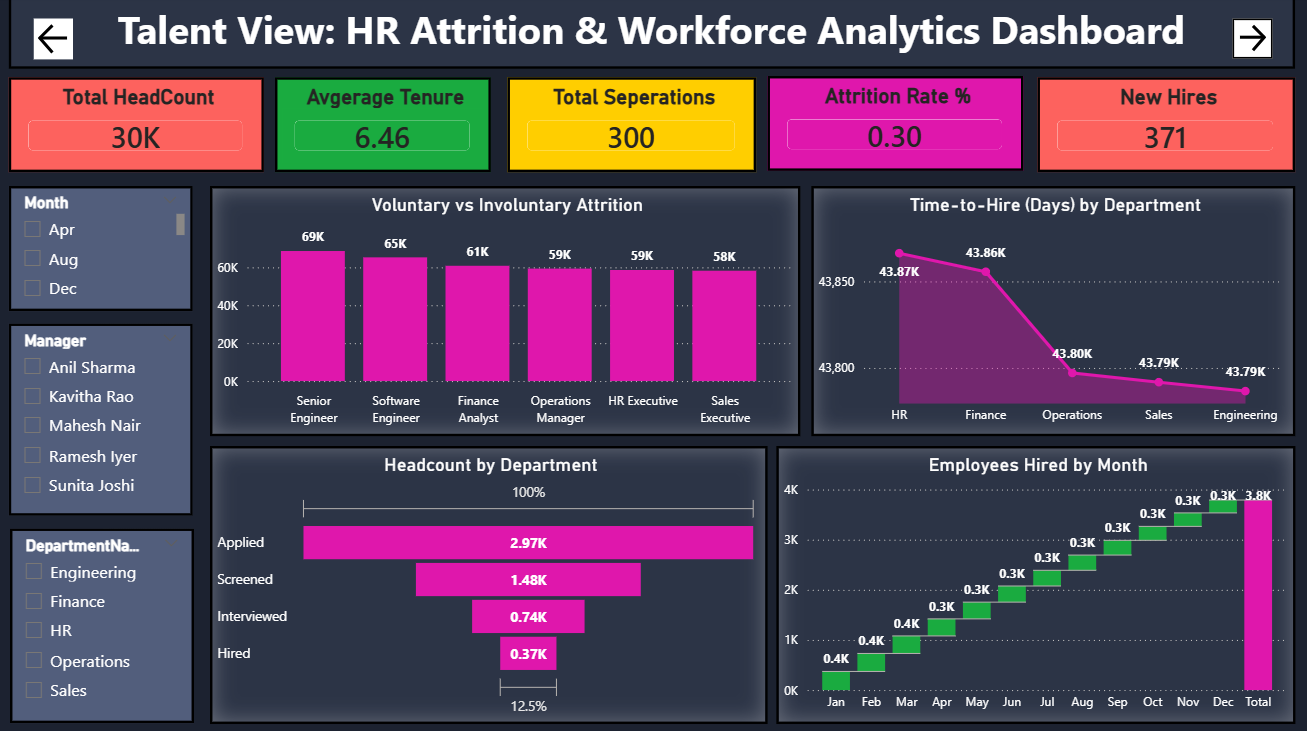

This screenshot's page, from the dashboard's own definition file:
{"tool":"powerbi","page":{"name":"Hiring Analysis","canvas":[1280,720],"ordinal":3},"visuals":[{"type":"funnel","title":"Headcount by Department","fields":{"Category":["Hiring Funnel Stages.Stage"],"Y":["Hiring Funnel Stages.Funnel Value"]},"box":[205.3,440,545.2,272],"z":0},{"type":"slicer","fields":{"Values":["Calendar.Month"]},"box":[8.6,185.9,179.8,122.3],"z":1000},{"type":"slicer","fields":{"Values":["dEmployee.Manager"]},"box":[8.6,320.4,179.8,188.3],"z":2000},{"type":"slicer","fields":{"Values":["dDepartment.DepartmentName"]},"box":[9.8,520.9,179.8,190.8],"z":3000},{"type":"textbox","box":[8.6,0,1258.3,70.9],"z":4000},{"type":"cardVisual","title":"Total HeadCount","fields":{"Data":["fSeparations.Headcount121"]},"box":[8.6,79.5,249.5,92.9],"z":5000},{"type":"cardVisual","title":"Avgerage Tenure","fields":{"Data":["dEmployee.Avg Tenure"]},"box":[269,79.5,211.6,92.9],"z":6000},{"type":"cardVisual","title":"Total Seperations","fields":{"Data":["fSeparations.Separations111"]},"box":[496.5,79.5,243.3,92.9],"z":7000},{"type":"cardVisual","title":"Attrition Rate %","fields":{"Data":["fSeparations.Attrition Rate % (Rolling 12M)"]},"box":[750.8,78.3,250.7,92.9],"z":8000},{"type":"cardVisual","title":"New Hires","fields":{"Data":["Hiring Funnel Stages.New Hires"]},"box":[1015,79.5,251.9,92.9],"z":9000},{"type":"actionButton","box":[1205.7,22,39.1,39.1],"z":10000},{"type":"clusteredColumnChart","title":"Voluntary vs Involuntary Attrition","fields":{"Category":["dEmployee.JobRole"],"Y":["dEmployee.New Hires"]},"box":[205.3,186,577.3,245],"z":11000},{"type":"areaChart","title":"Time-to-Hire (Days) by Department","fields":{"Category":["dEmployee.Department"],"Y":["dEmployee.Time to Hire (Days)"]},"box":[794.1,186,473.4,245],"z":12000},{"type":"waterfallChart","fields":{"Y":["dEmployee.Employees Hired"],"Category":["Calendar.Month"]},"box":[759.4,440,508,272],"z":13000},{"type":"actionButton","box":[33.4,21.8,38.5,39.8],"z":14000}]}

Visuals, with their boxes in screenshot pixels (x1, y1, x2, y2), scaled from the page's 1280x720 canvas onto the 1307x731 screenshot:
"Headcount by Department" funnel: pyautogui.locateOnScreen(210, 447, 766, 723)
slicer - Calendar.Month: pyautogui.locateOnScreen(9, 189, 192, 313)
slicer - dEmployee.Manager: pyautogui.locateOnScreen(9, 325, 192, 516)
slicer - dDepartment.DepartmentName: pyautogui.locateOnScreen(10, 529, 194, 723)
textbox: pyautogui.locateOnScreen(9, 0, 1294, 72)
"Total HeadCount" cardVisual: pyautogui.locateOnScreen(9, 81, 264, 175)
"Avgerage Tenure" cardVisual: pyautogui.locateOnScreen(275, 81, 491, 175)
"Total Seperations" cardVisual: pyautogui.locateOnScreen(507, 81, 755, 175)
"Attrition Rate %" cardVisual: pyautogui.locateOnScreen(767, 79, 1023, 174)
"New Hires" cardVisual: pyautogui.locateOnScreen(1036, 81, 1294, 175)
actionButton: pyautogui.locateOnScreen(1231, 22, 1271, 62)
"Voluntary vs Involuntary Attrition" clusteredColumnChart: pyautogui.locateOnScreen(210, 189, 799, 438)
"Time-to-Hire (Days) by Department" areaChart: pyautogui.locateOnScreen(811, 189, 1294, 438)
waterfallChart - dEmployee.Employees Hired x Calendar.Month: pyautogui.locateOnScreen(775, 447, 1294, 723)
actionButton: pyautogui.locateOnScreen(34, 22, 73, 63)
